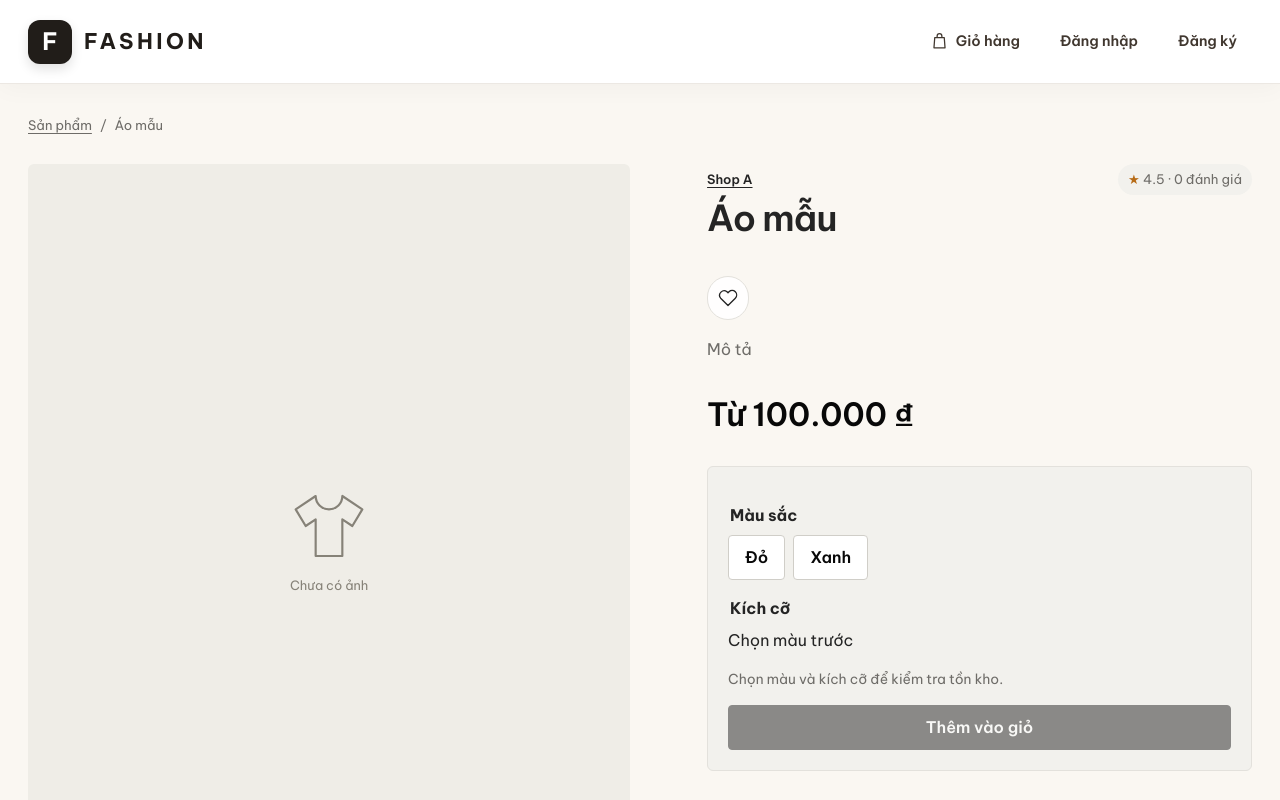
Test case: chọn màu rồi size để xem đúng giá và tồn kho, đổi màu sẽ xóa size đã chọn
The width and height of the screenshot is (1280, 800).
Click the button "Đỏ" at (757, 557), box [728,534,785,580]
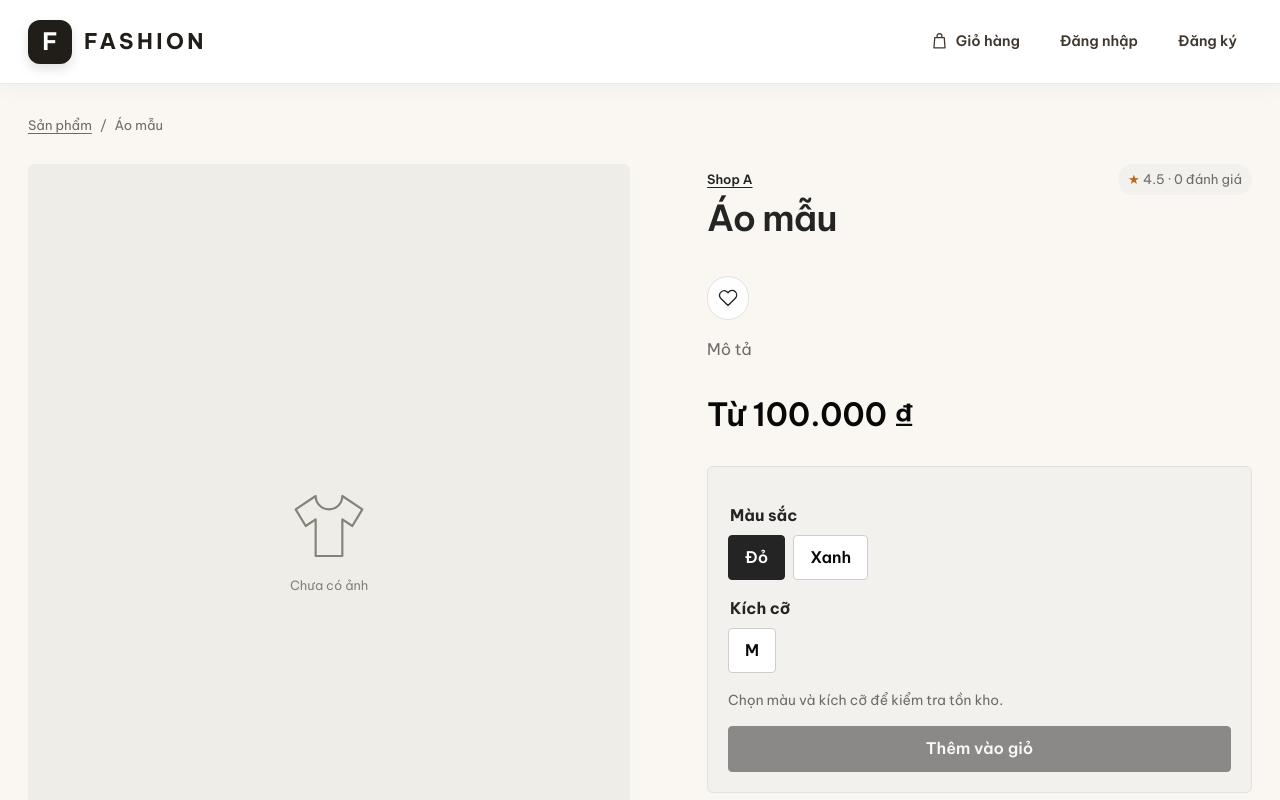
Click the button "M" at (752, 650), box [728,628,776,673]
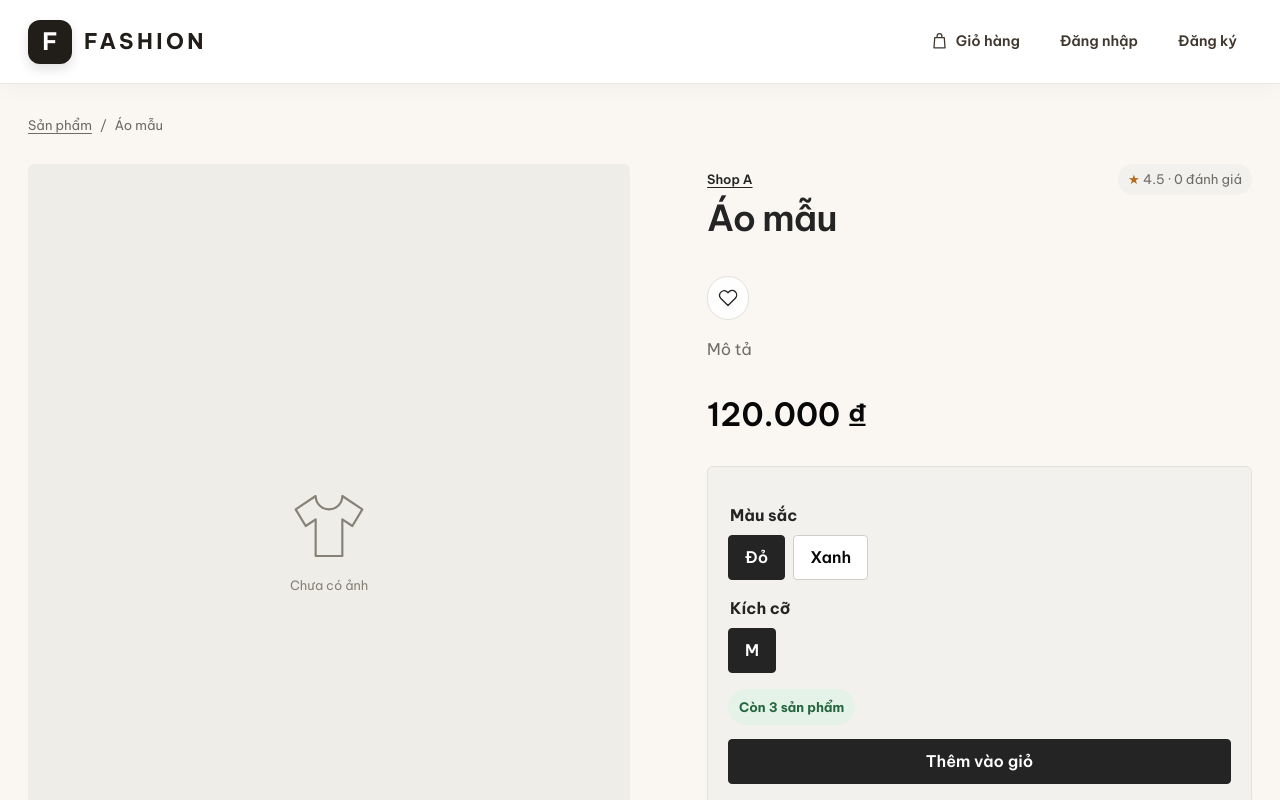
Result: the text "120.000 ₫" is shown at [707,394,868,434]
Result: the text "Còn 3 sản phẩm" is shown at [728,689,855,725]
Click the button "Xanh" at (831, 557), box [793,534,868,580]
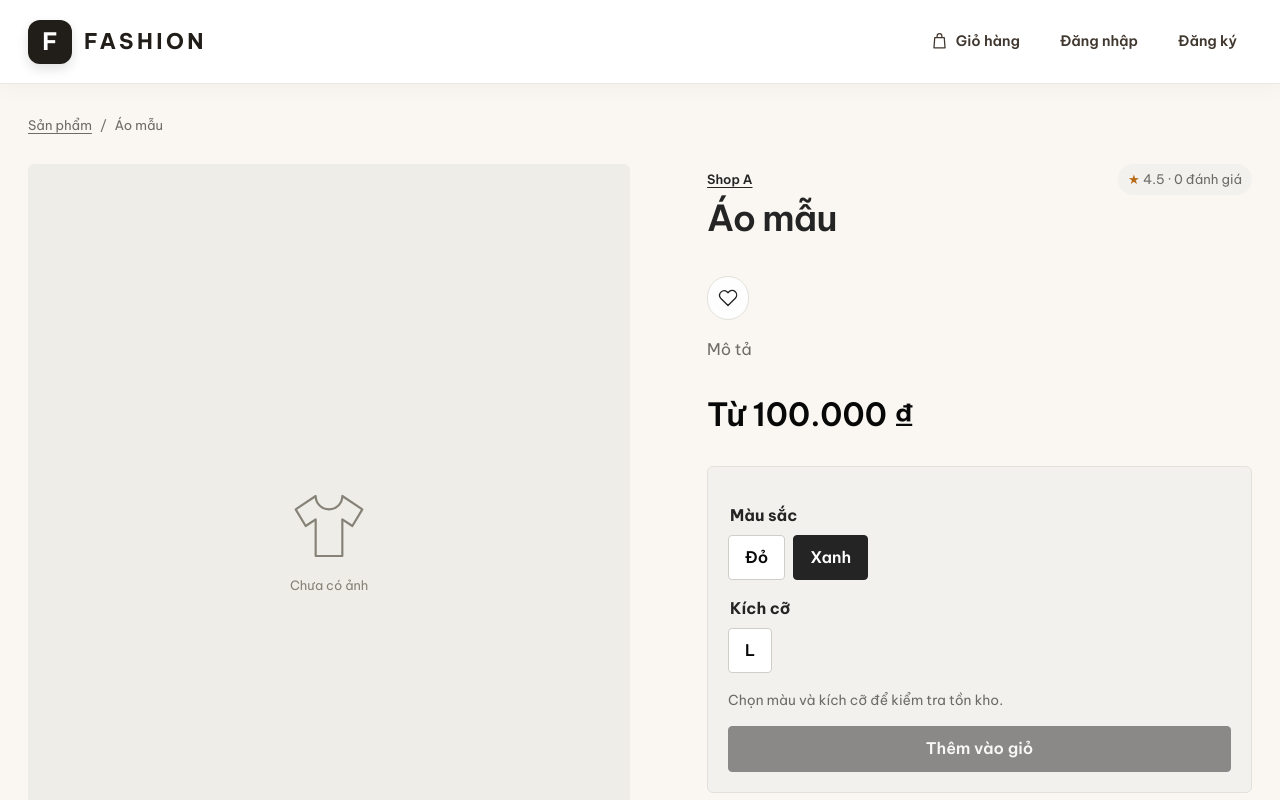
Result: the text "Từ 100.000 ₫" is shown at [707,394,914,434]
Click the button "L" at (750, 650), box [728,628,772,673]
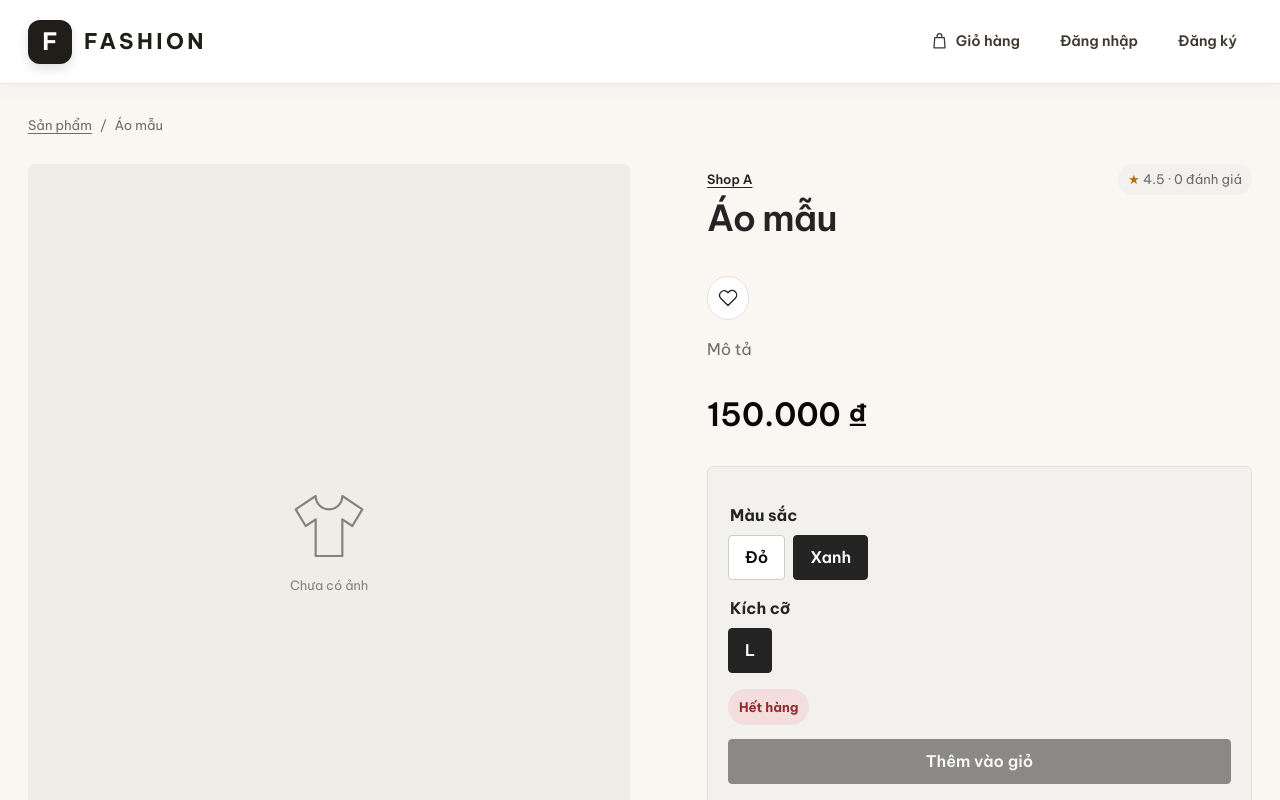
Result: the button "Thêm vào giỏ" is disabled at [728,739,1231,784]
Result: the text "150.000 ₫" is shown at [707,394,868,434]
Result: the text "Hết hàng" is shown at [728,689,809,725]
